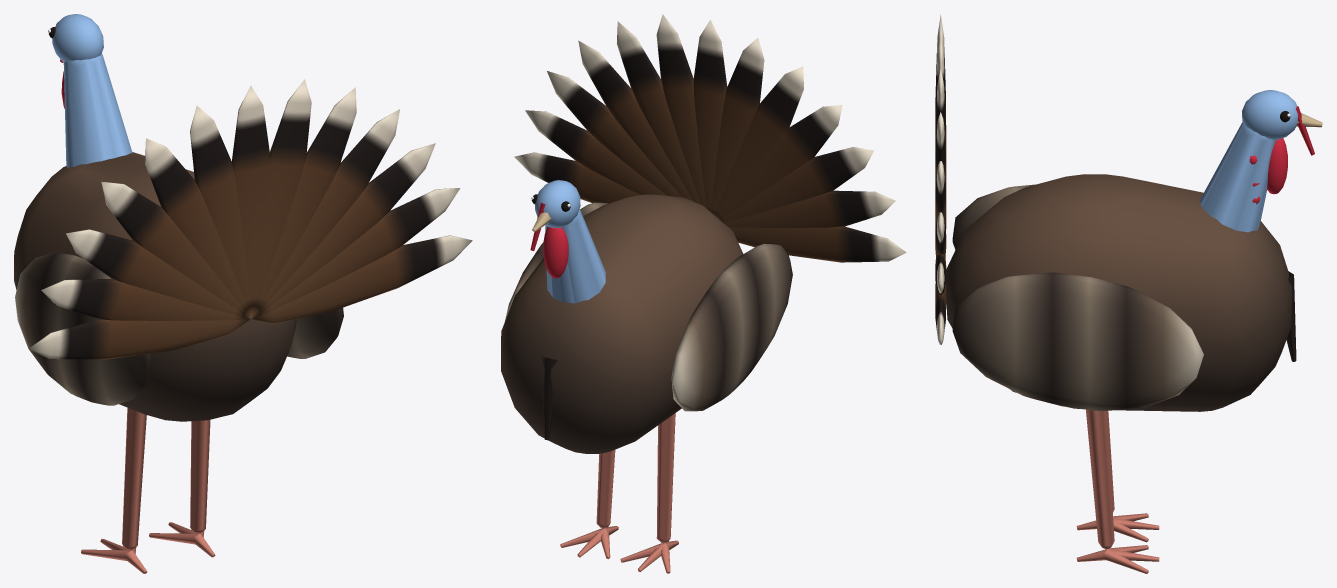
File: WildTurkey.glb
3 views of the same model, side by side, from view 1: azimuth 30°, elevation 25°; view 2: azimuth 150°, elevation 25°; view 3: azimuth 270°, elevation 25° (orthographic). The views are drawn at different scales.
Visible parts, largest first — view 1: Tail, Body, WingL, Head, LegL, LegR, WingR; view 2: Tail, Body, WingL, Head, LegL, LegR, WingR; view 3: Body, WingR, Head, LegR, Tail, LegL, WingL.
Boxes of the visible parts, left/top/right/bottom form: Tail: left=29, top=79, right=472, bottom=359; Body: left=14, top=152, right=296, bottom=421; WingL: left=15, top=252, right=152, bottom=405; Head: left=48, top=14, right=132, bottom=167; LegL: left=81, top=407, right=147, bottom=573; LegR: left=149, top=420, right=215, bottom=557; WingR: left=287, top=307, right=343, bottom=358; Tail: left=514, top=14, right=906, bottom=262; Body: left=501, top=194, right=743, bottom=453; WingL: left=671, top=243, right=792, bottom=411; Head: left=530, top=180, right=605, bottom=303; LegL: left=620, top=413, right=678, bottom=573; LegR: left=560, top=450, right=618, bottom=559; WingR: left=505, top=202, right=608, bottom=320; Body: left=946, top=174, right=1296, bottom=411; WingR: left=952, top=272, right=1203, bottom=411; Head: left=1199, top=90, right=1322, bottom=232; LegR: left=1076, top=409, right=1159, bottom=573; Tail: left=935, top=14, right=946, bottom=344; LegL: left=1076, top=411, right=1159, bottom=542; WingL: left=952, top=184, right=1034, bottom=249.
Size of the model in its own units: 4.18 by 4.79 by 3.3.
Materials: 1 (1 with a texture image).
